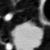node: (9, 18, 42, 50), (2, 11, 14, 22), (5, 42, 13, 50)
